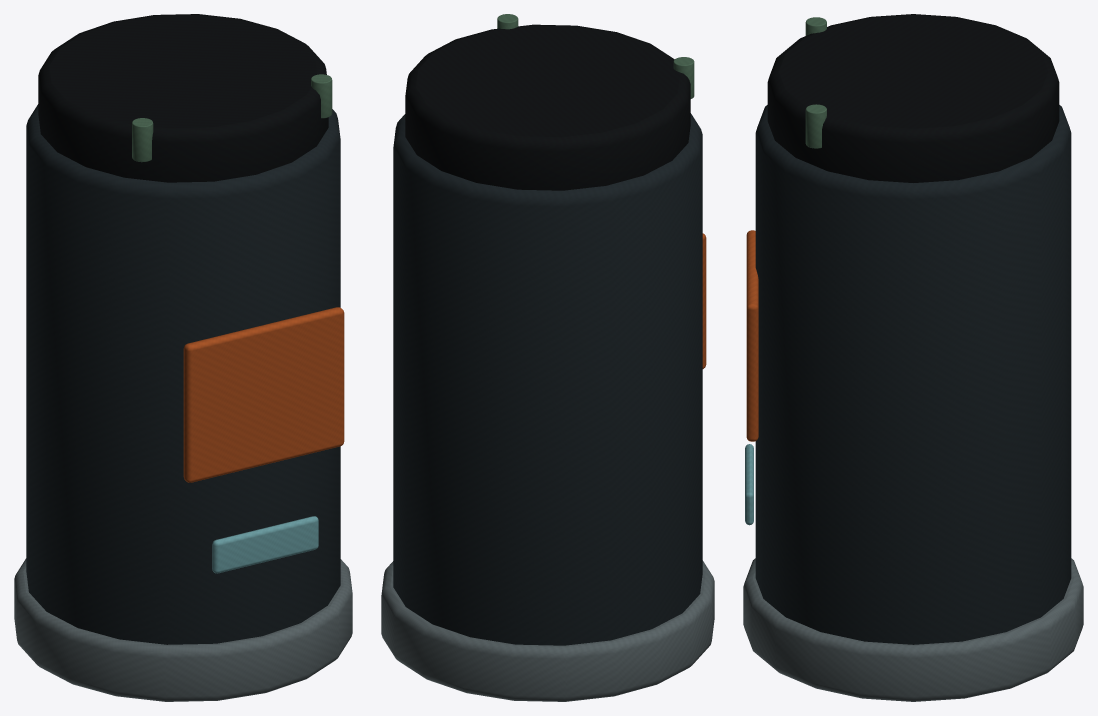
File: DecontaminationCanister.fbx
3 renders of one model, left to right at view 1: azimuth 30°, elevation 25°; view 2: azimuth 150°, elevation 25°; view 3: azimuth 270°, elevation 25°, orthographic.
Parts seen in each view (by area): view 1: DecontaminationCanister_Mesh; view 2: DecontaminationCanister_Mesh; view 3: DecontaminationCanister_Mesh.
Boxes of the visible parts, x1,y1,x2,y2 form: DecontaminationCanister_Mesh: (14, 14, 352, 701); DecontaminationCanister_Mesh: (381, 14, 714, 701); DecontaminationCanister_Mesh: (743, 14, 1083, 701).
Size of the model in its own units: 56 by 103 by 56.
Materials: 6 (6 with a texture image).
